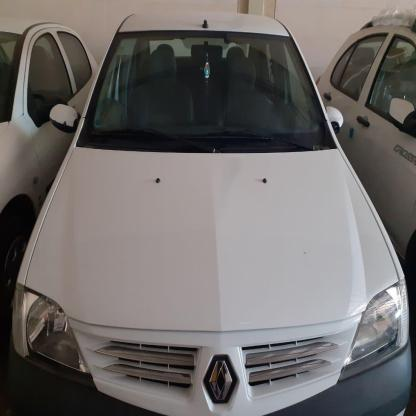Car: (20, 13, 416, 416), (0, 27, 107, 337), (312, 12, 416, 288)
